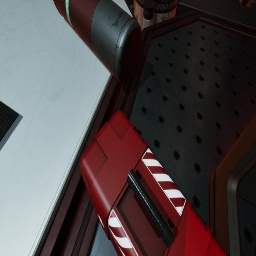FirstAidBox ,: (80, 110, 227, 256)
NitrogenTank ,: (53, 0, 142, 85)
